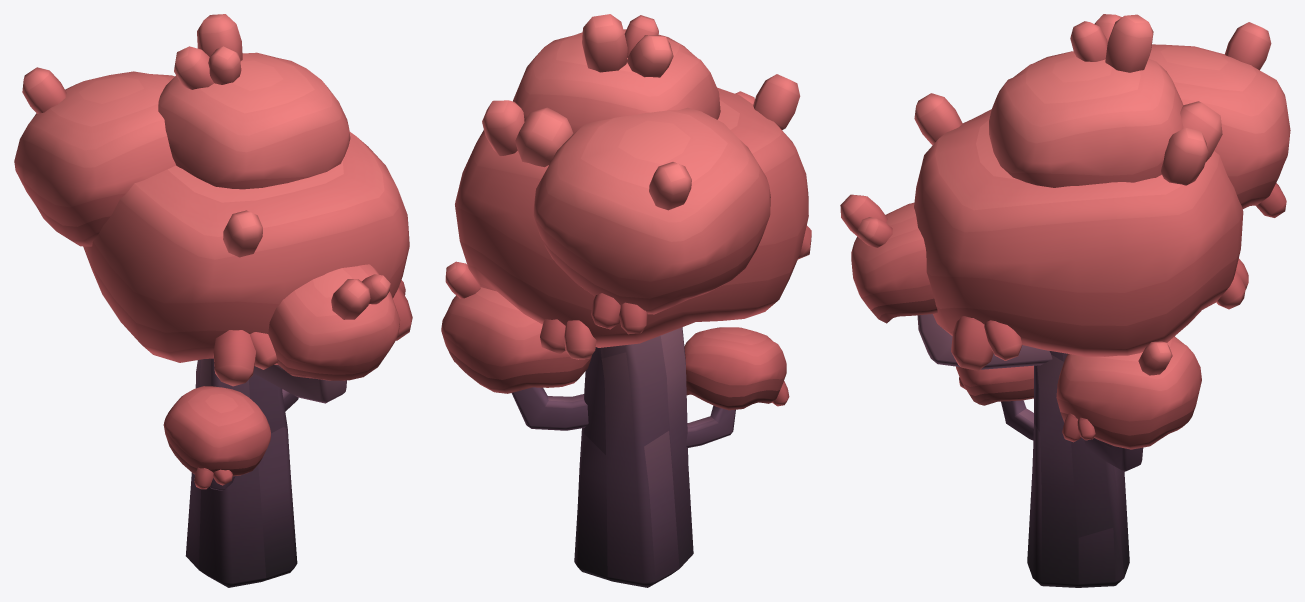
The model's file is grassland_tree_col3_4.fbx.
3 views of the same model, side by side, from view 1: azimuth 30°, elevation 25°; view 2: azimuth 150°, elevation 25°; view 3: azimuth 270°, elevation 25° (orthographic). The views are drawn at different scales.
Parts seen in each view (by area): view 1: grassland_tree_col3_4; view 2: grassland_tree_col3_4; view 3: grassland_tree_col3_4.
Boxes of the visible parts, x1,y1,x2,y2 form: grassland_tree_col3_4: [14, 14, 412, 587]; grassland_tree_col3_4: [441, 14, 811, 587]; grassland_tree_col3_4: [840, 14, 1290, 587].
Bounding box in the file's own units: 531 × 914 × 672.
